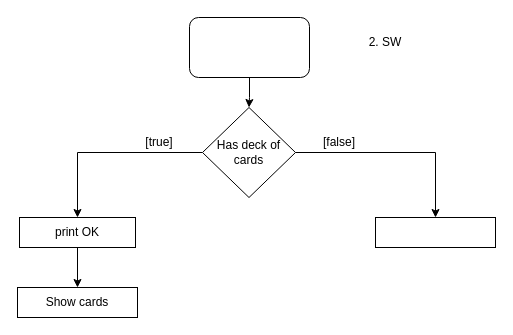
The diagram is 513 pixels wide and 335 high, and some of its shapes have lost their labels. Each missing label, with the centre of its shape:
"print error" goes at pixel 435 232.
"SW (show)" goes at pixel 249 47.
